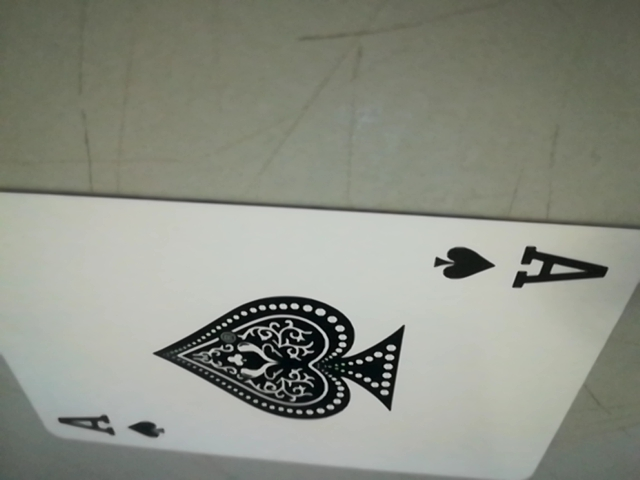ht a: (419, 237, 626, 294)
